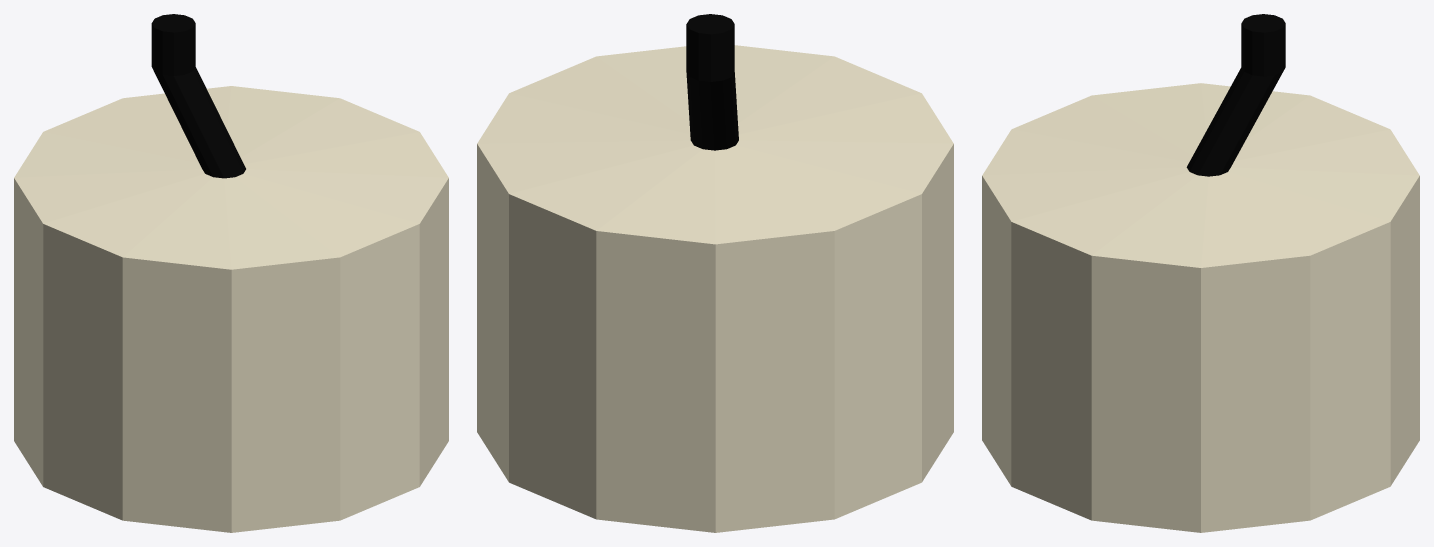
File: VelaGorda.fbx
The picture shows the model from 3 angles, left to right: view 1: azimuth 30°, elevation 25°; view 2: azimuth 150°, elevation 25°; view 3: azimuth 270°, elevation 25°; orthographic projection. The views are drawn at different scales.
Parts seen in each view (by area): view 1: Circle.001; view 2: Circle.001; view 3: Circle.001.
Part boxes in pixels (bbox=[...]): Circle.001: bbox=[14, 14, 448, 532]; Circle.001: bbox=[477, 14, 953, 532]; Circle.001: bbox=[982, 14, 1419, 532].
Bounding box in the file's own units: 55.58 × 56.61 × 55.58.
